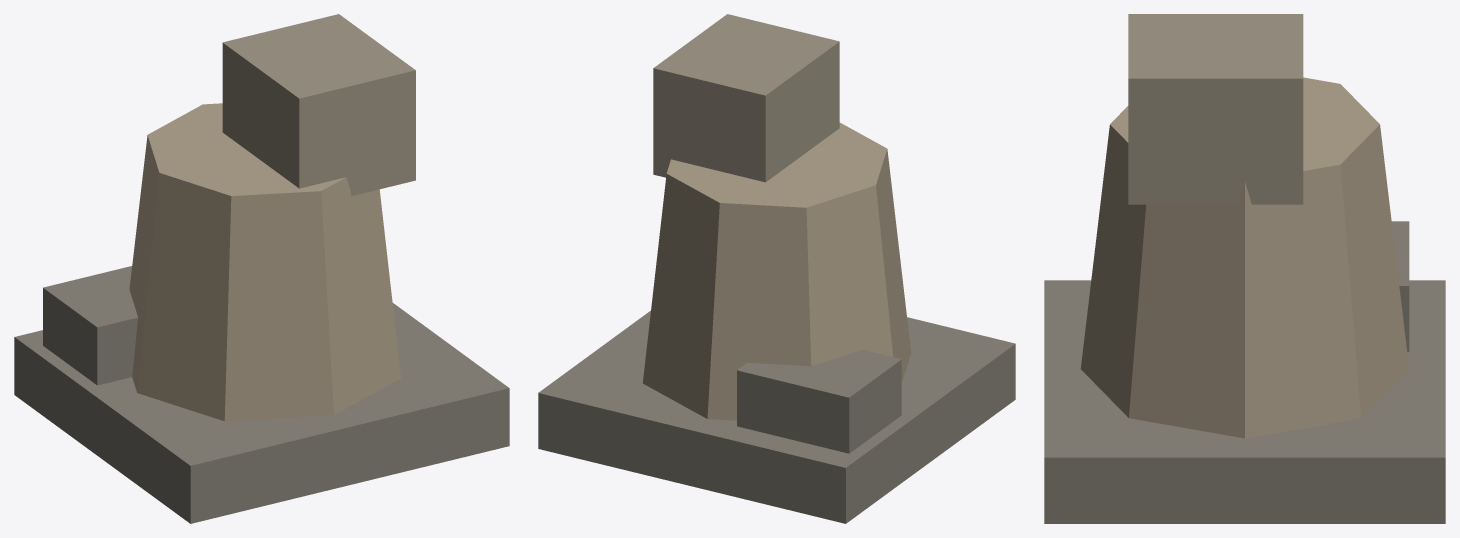
Rendered from Dungeon_BrokenPillar.fbx.
3 renders of one model, left to right at view 1: azimuth 30°, elevation 25°; view 2: azimuth 150°, elevation 25°; view 3: azimuth 270°, elevation 25°, orthographic. The views are drawn at different scales.
Visible parts, largest first — view 1: Dungeon_BrokenPillar; view 2: Dungeon_BrokenPillar; view 3: Dungeon_BrokenPillar.
Boxes of the visible parts, x1,y1,x2,y2 form: Dungeon_BrokenPillar: [14, 14, 509, 523]; Dungeon_BrokenPillar: [538, 14, 1015, 523]; Dungeon_BrokenPillar: [1044, 14, 1445, 523].
Bounding box in the file's own units: 1.15 × 1.25 × 1.1.
